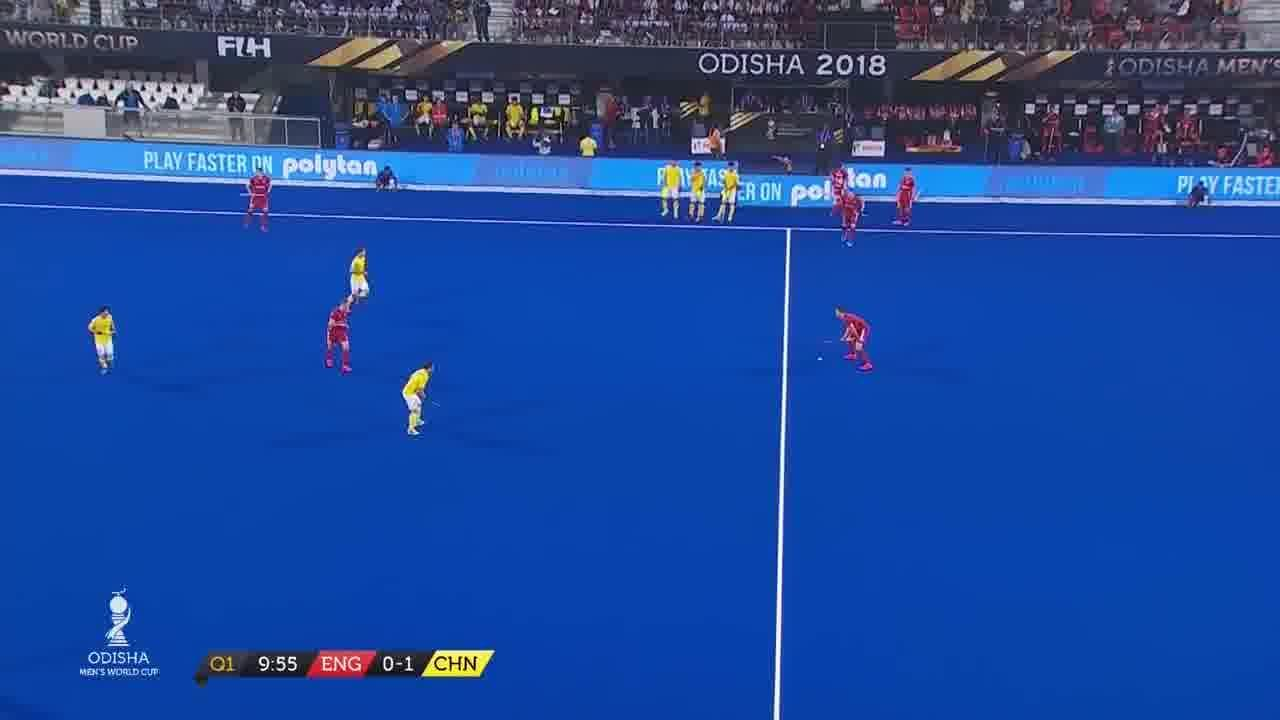ball: (814, 354, 824, 362)
